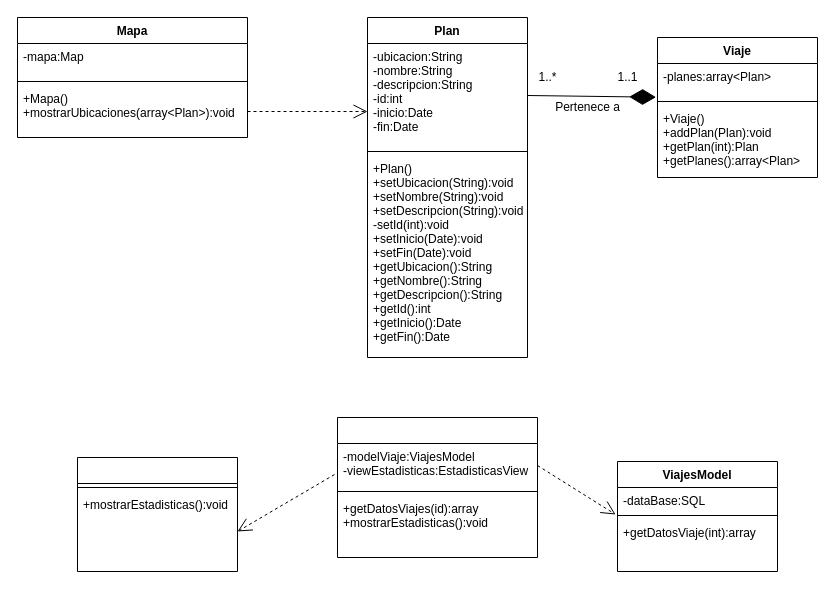
The diagram is 835 pixels wide and 592 high, and some of its shapes have lost their labels. Here are the shapes that lost their labels. From the top down, the box of each, then its label:
(336, 416, 538, 558): EstadisticasController
(76, 456, 238, 572): EstadisticasView
